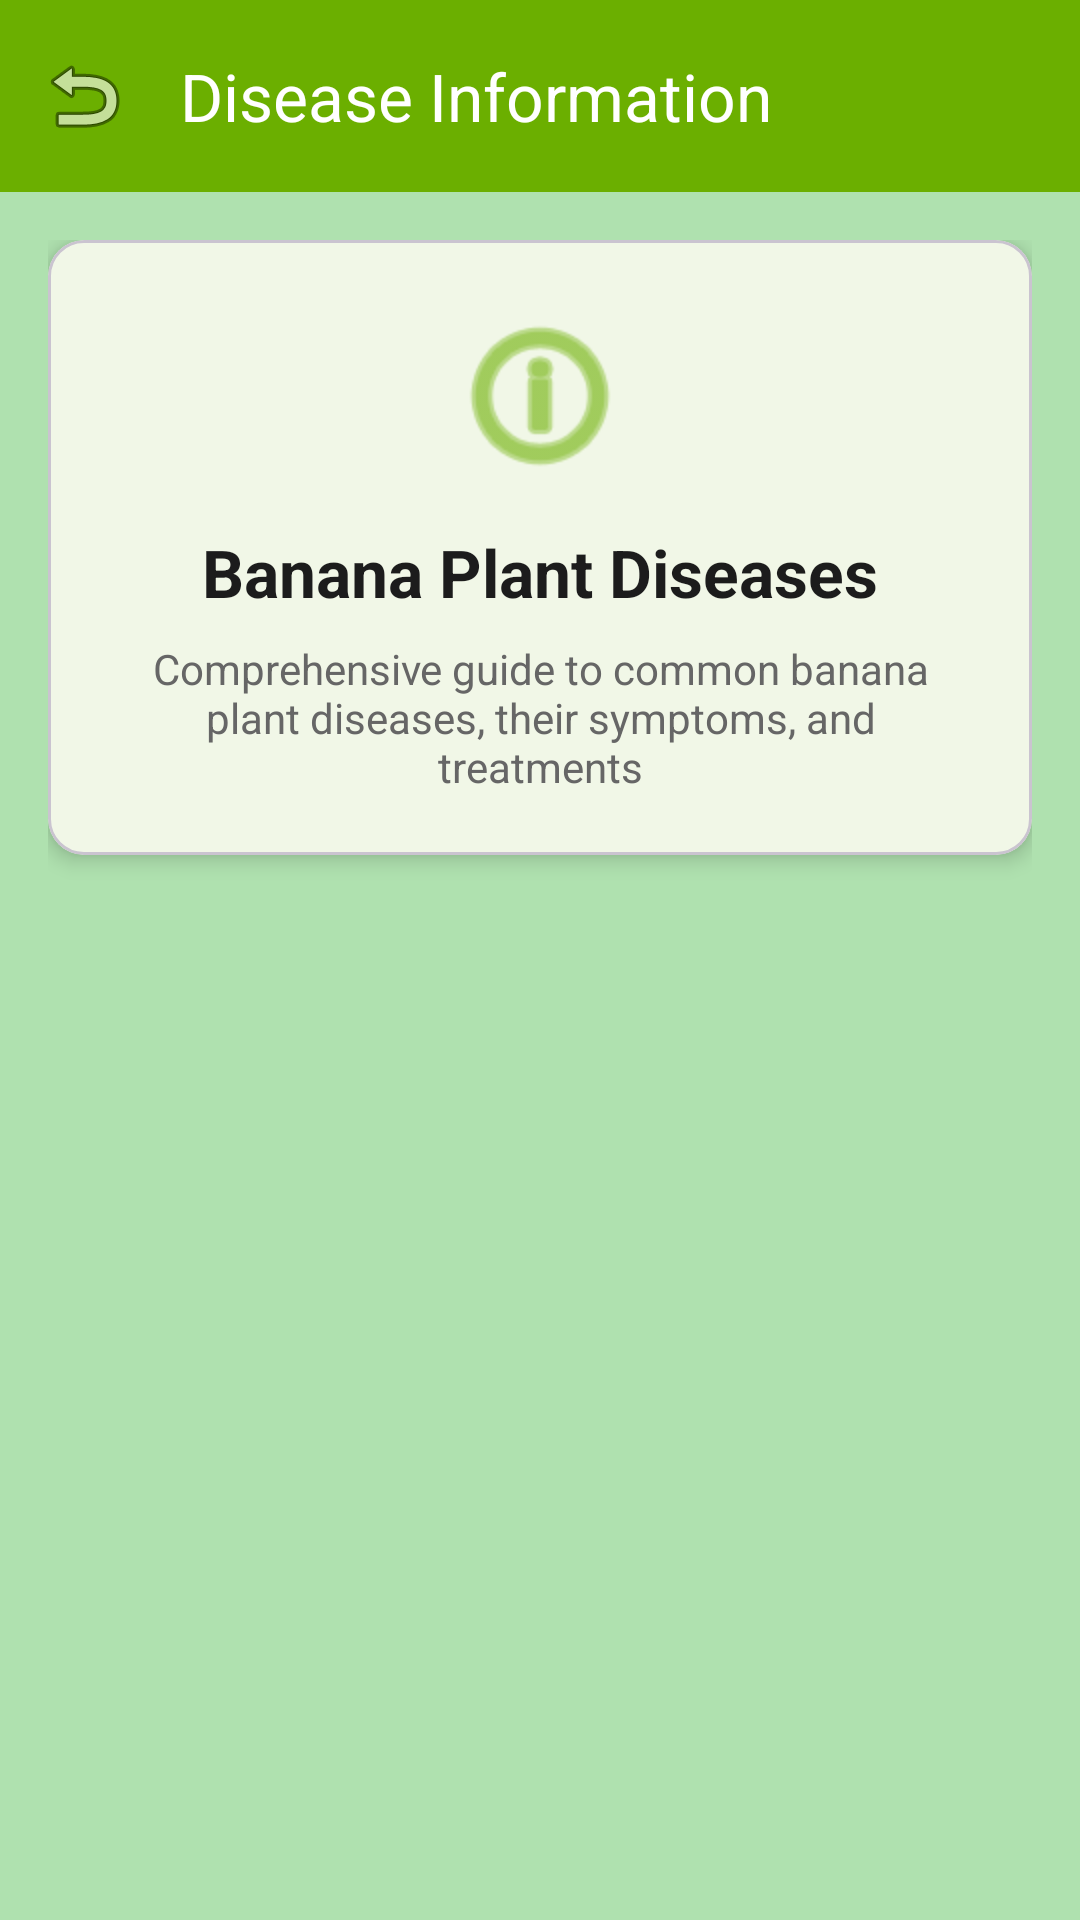

Icon click points for this 1080px×1920px phone screenshot, format (x,y):
info details: (540,396)
